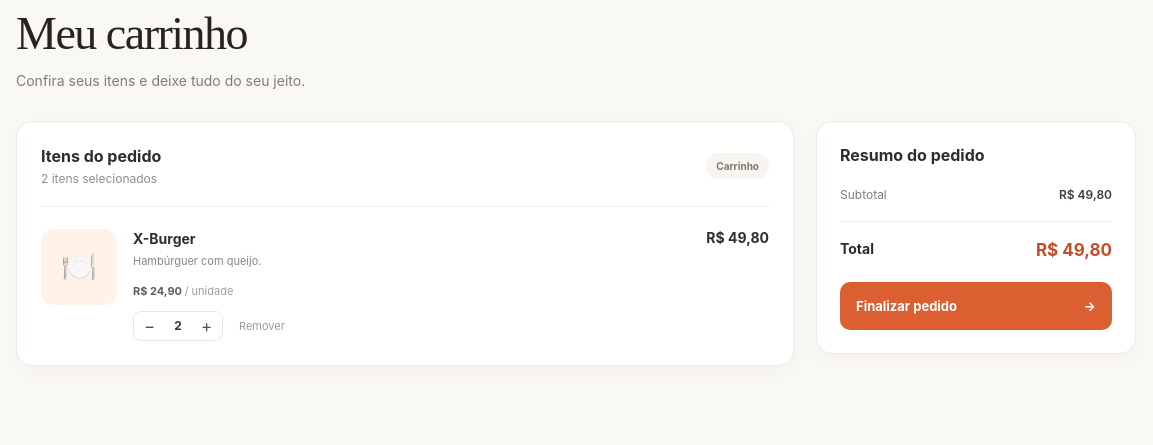
Scenario: Carrinho › atualiza quantidade e total e permite remover o item
Click the button named "Aumentar quantidade de X-Burger": (206, 326) left=191, top=312, right=222, bottom=340
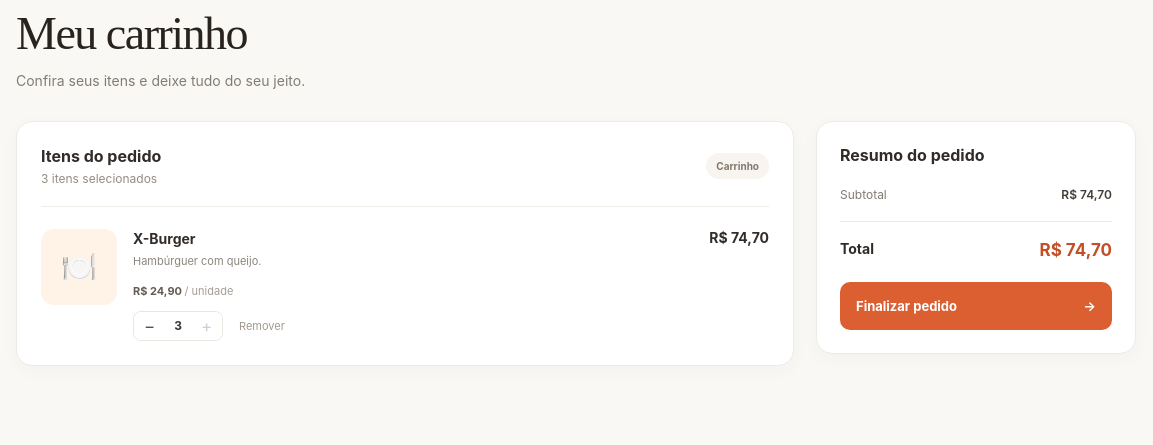
Check: the text "R$ 74,70" is shown 3 times, box left=709, top=229, right=769, bottom=246; left=1061, top=187, right=1112, bottom=202; left=1040, top=240, right=1112, bottom=260
Check: the text "3 itens selecionados" is shown, box left=41, top=171, right=161, bottom=186
Check: the button named "Aumentar quantidade de X-Burger" is disabled, box left=191, top=312, right=222, bottom=340
Click the button "Remover": (262, 326) left=239, top=315, right=285, bottom=337
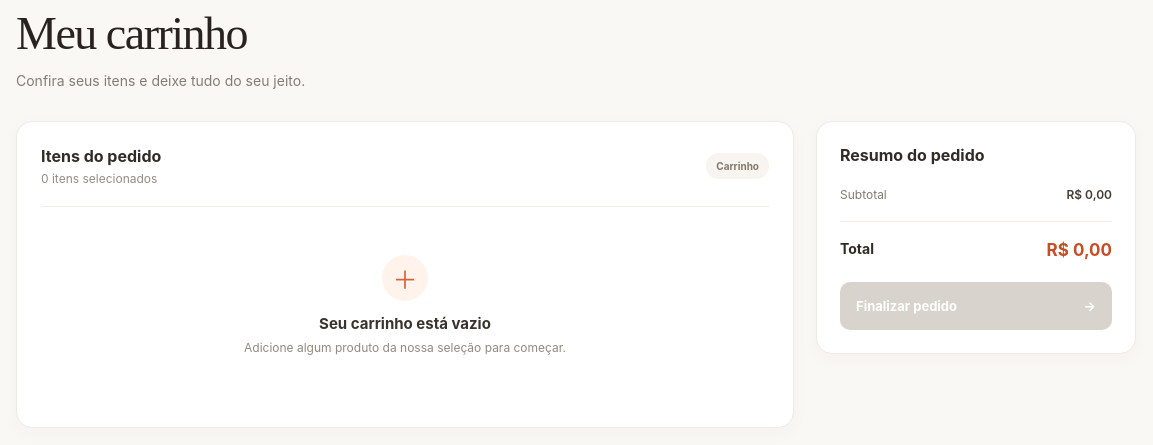
Check: the heading "Seu carrinho está vazio" is shown, box left=319, top=314, right=491, bottom=333
